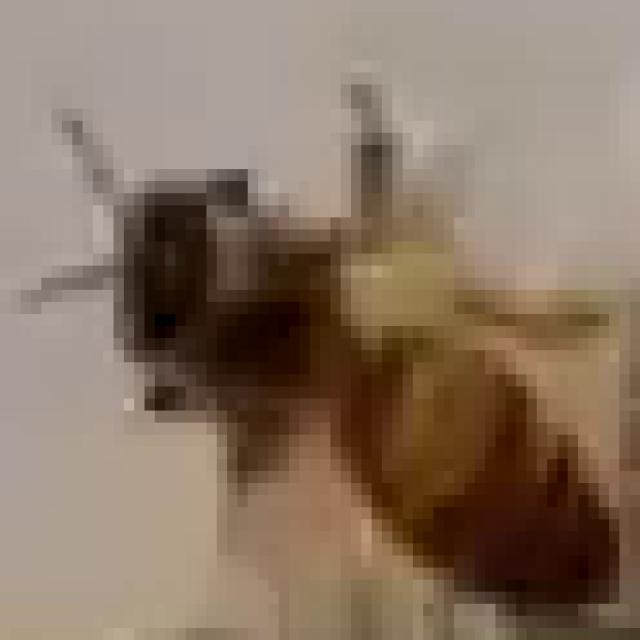honeybee: (57, 70, 637, 636)
